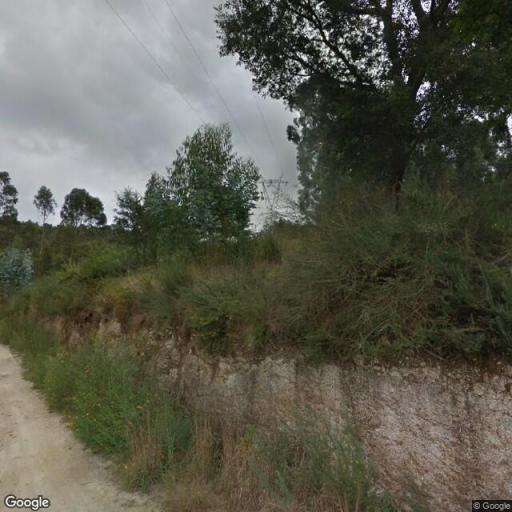wt_6: (258, 166, 288, 218)
